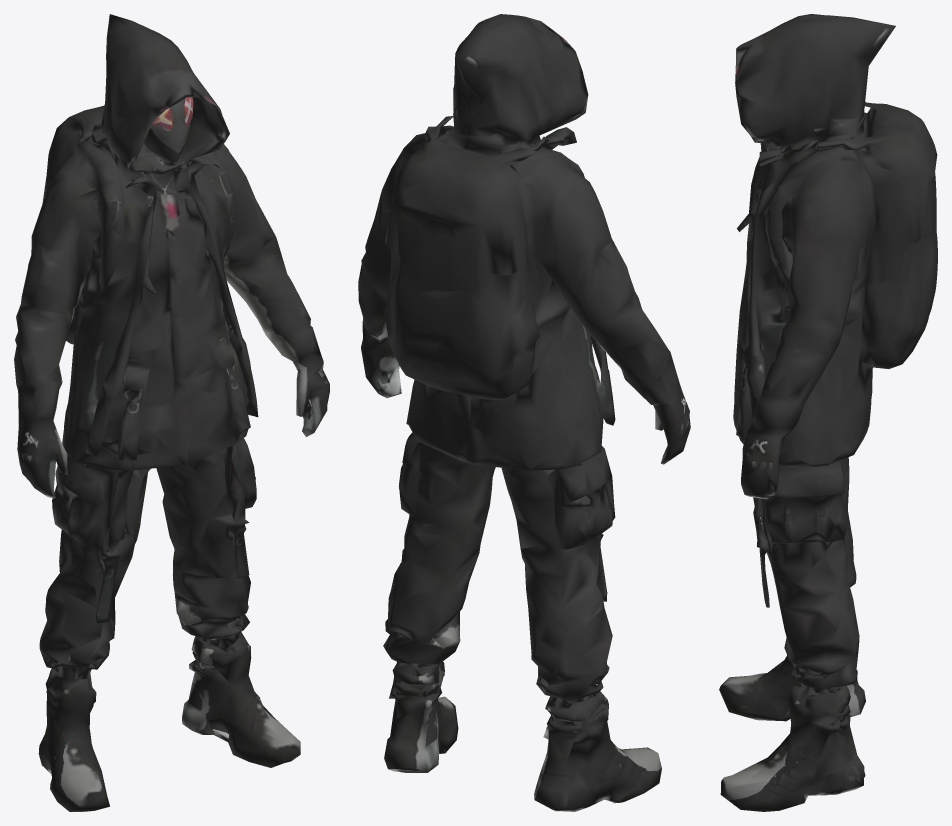
3 renders of one model, left to right at view 1: azimuth 30°, elevation 25°; view 2: azimuth 150°, elevation 25°; view 3: azimuth 270°, elevation 25°, orthographic. The views are drawn at different scales.
Visible parts, largest first — view 1: tripo_node_d85fa887-6ee1-48fe-85d2-1b7b5fc2f6a8; view 2: tripo_node_d85fa887-6ee1-48fe-85d2-1b7b5fc2f6a8; view 3: tripo_node_d85fa887-6ee1-48fe-85d2-1b7b5fc2f6a8.
Boxes of the visible parts, bbox=[...] form: tripo_node_d85fa887-6ee1-48fe-85d2-1b7b5fc2f6a8: bbox=[14, 14, 329, 811]; tripo_node_d85fa887-6ee1-48fe-85d2-1b7b5fc2f6a8: bbox=[358, 14, 690, 811]; tripo_node_d85fa887-6ee1-48fe-85d2-1b7b5fc2f6a8: bbox=[719, 14, 937, 811].
Size of the model in its own units: 1.85 by 4.2 by 1.13.
Materials: 1 (1 with a texture image).
